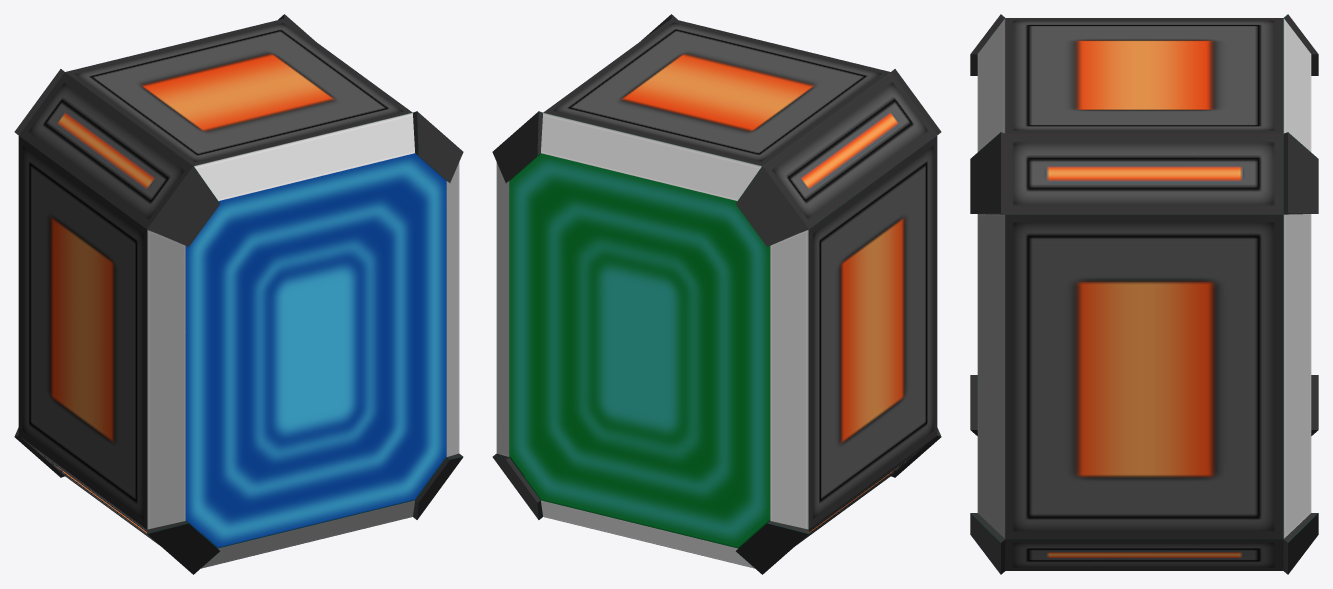
Rendered from Neon_BoxTarget.fbx.
3 renders of one model, left to right at view 1: azimuth 30°, elevation 25°; view 2: azimuth 150°, elevation 25°; view 3: azimuth 270°, elevation 25°, orthographic. The views are drawn at different scales.
Visible parts, largest first — view 1: Neon_BoxTarget; view 2: Neon_BoxTarget; view 3: Neon_BoxTarget.
Boxes of the visible parts, <box> form: Neon_BoxTarget: <box>14,14,463,574</box>; Neon_BoxTarget: <box>492,14,941,574</box>; Neon_BoxTarget: <box>970,14,1318,574</box>.
Size of the model in its own units: 83.72 by 103 by 73.73.
Materials: 1 (1 with a texture image).
